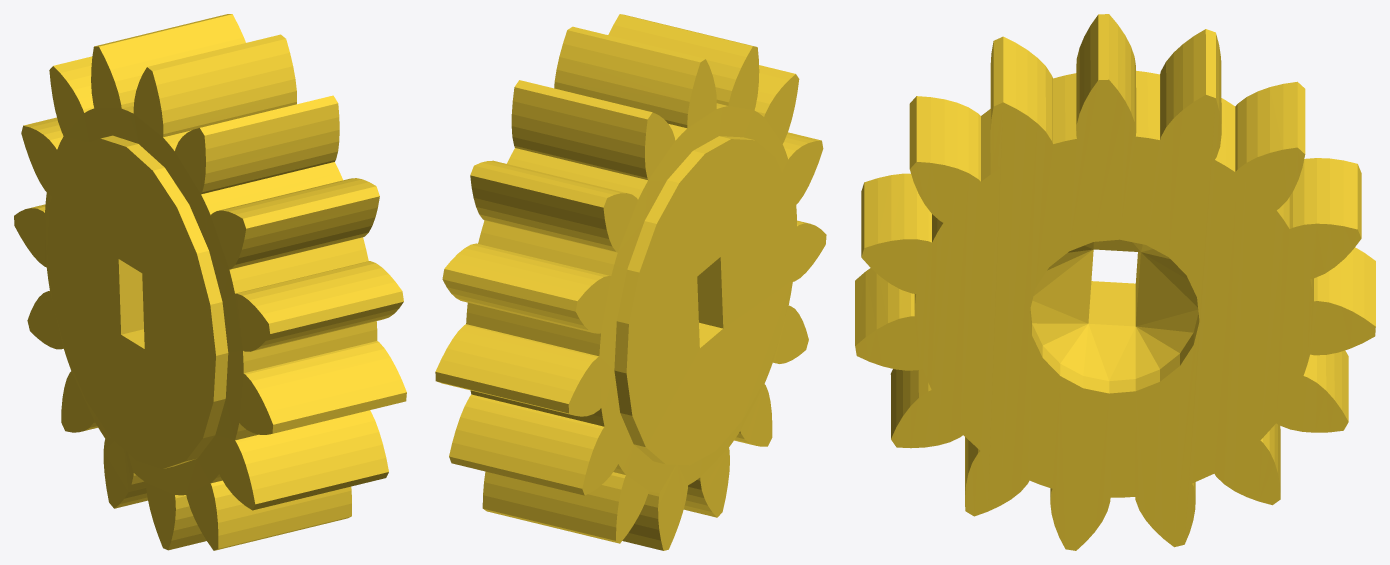
Rendered from right_shoulder_z_link_visual_9.obj.balanced.glb.
The picture shows the model from 3 angles, left to right: view 1: azimuth 30°, elevation 25°; view 2: azimuth 150°, elevation 25°; view 3: azimuth 270°, elevation 25°; orthographic projection.
Size of the model in its own units: 0.0675 by 0.2062 by 0.2064.
